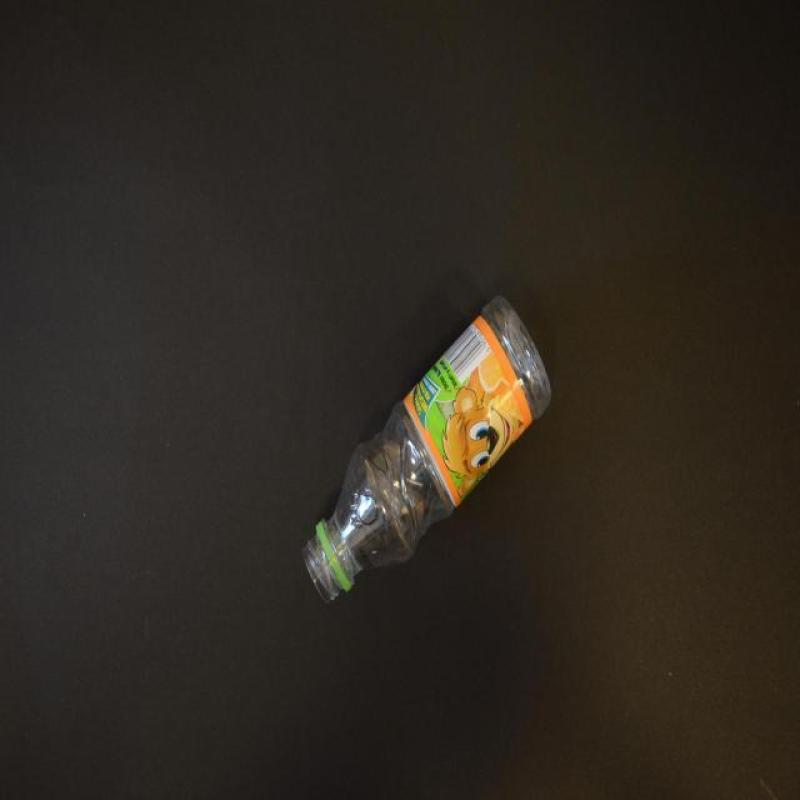botella: (301, 295, 552, 605)
